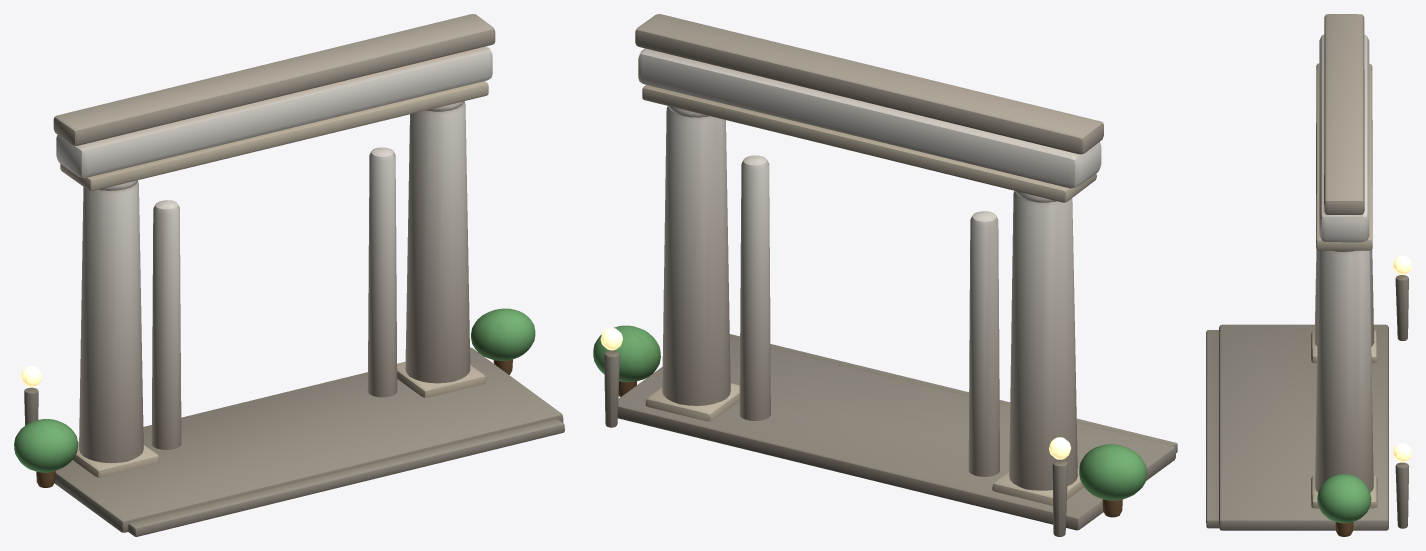
The picture shows the model from 3 angles, left to right: view 1: azimuth 30°, elevation 25°; view 2: azimuth 150°, elevation 25°; view 3: azimuth 270°, elevation 25°; orthographic projection. The views are drawn at different scales.
Visible parts, largest first — view 1: gate_5edcf090; view 2: gate_5edcf090; view 3: gate_5edcf090.
Boxes of the visible parts, x1=… form: gate_5edcf090: x1=14, y1=14, x2=564, y2=536; gate_5edcf090: x1=593, y1=14, x2=1177, y2=536; gate_5edcf090: x1=1206, y1=14, x2=1411, y2=536.
Bounding box in the file's own units: 6.69 × 4.47 × 2.54.
